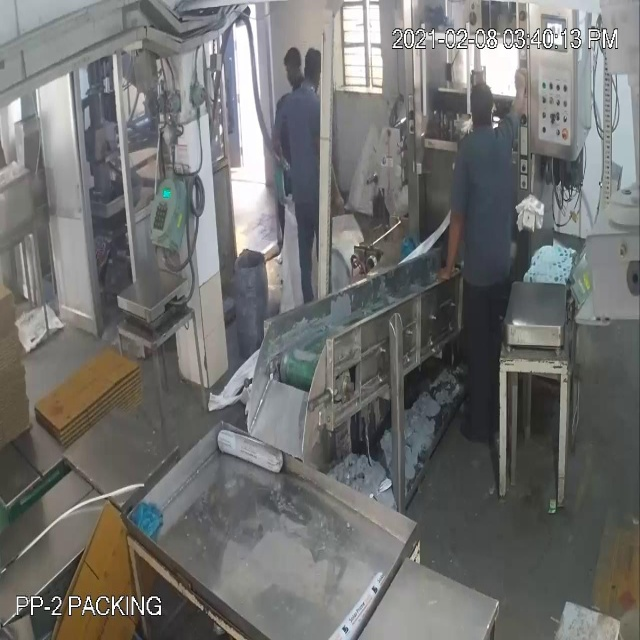Sin_guantes: (434, 196, 468, 292), (510, 63, 530, 131)
